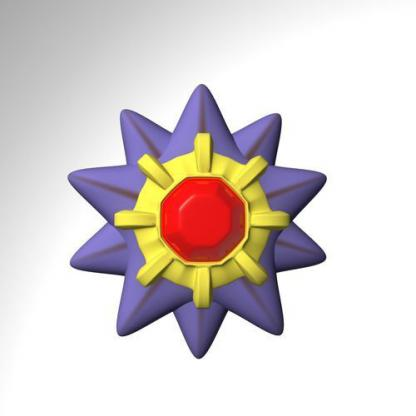Starmie: (66, 72, 342, 361)
